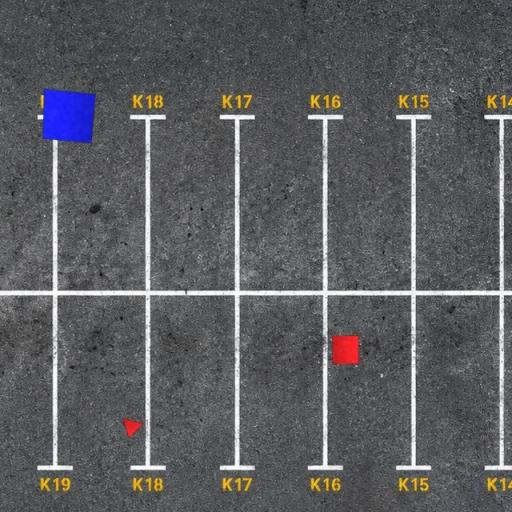BLUE_SQUARE: (42, 89, 96, 144)
RED_SQUARE: (331, 334, 360, 365)
